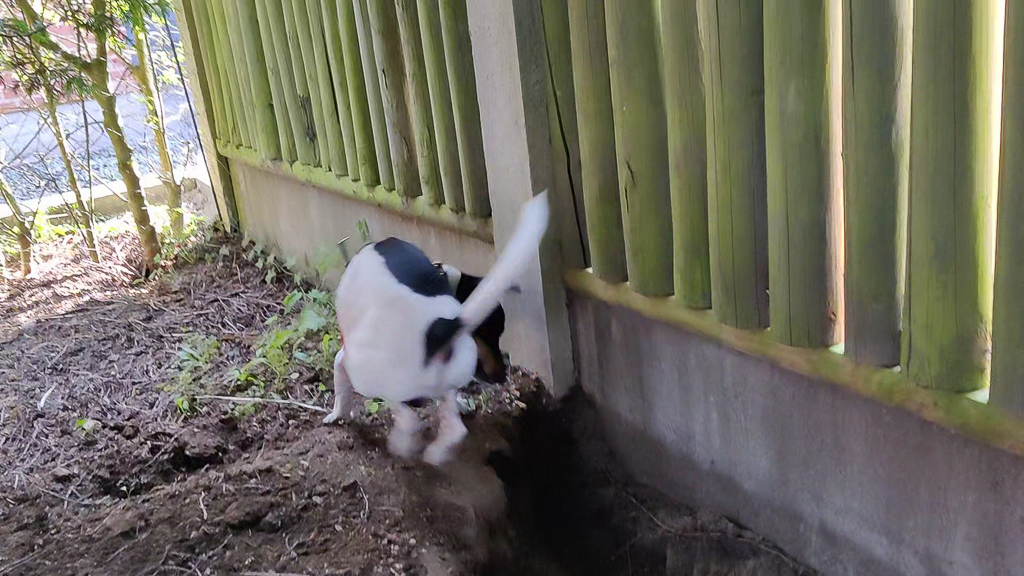Dog: (297, 159, 590, 508)
